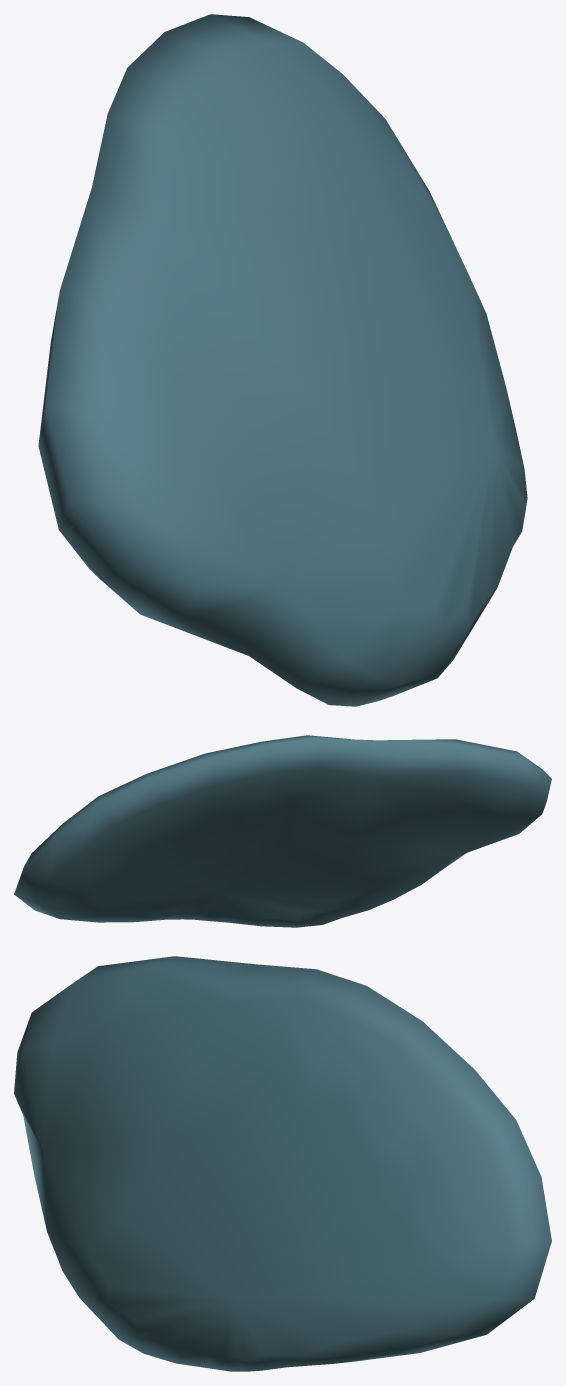
Rendered from Proximal_phalanx_5th_toe_right_001.glb.
3 renders of one model, top to bottom at view 1: azimuth 30°, elevation 25°; view 2: azimuth 150°, elevation 25°; view 3: azimuth 270°, elevation 25°, orthographic. The views are drawn at different scales.
Parts seen in each view (by area): view 1: Proximal_phalanx_of_5th_finger_of_foot.r.001_Generated_Mesh_; view 2: Proximal_phalanx_of_5th_finger_of_foot.r.001_Generated_Mesh_; view 3: Proximal_phalanx_of_5th_finger_of_foot.r.001_Generated_Mesh_.
Boxes of the visible parts, left/top/right/bottom form: Proximal_phalanx_of_5th_finger_of_foot.r.001_Generated_Mesh_: left=38, top=14, right=527, bottom=706; Proximal_phalanx_of_5th_finger_of_foot.r.001_Generated_Mesh_: left=14, top=735, right=551, bottom=927; Proximal_phalanx_of_5th_finger_of_foot.r.001_Generated_Mesh_: left=14, top=956, right=551, bottom=1371.
Size of the model in its own units: 0.0035 by 0.00242 by 0.00361.
